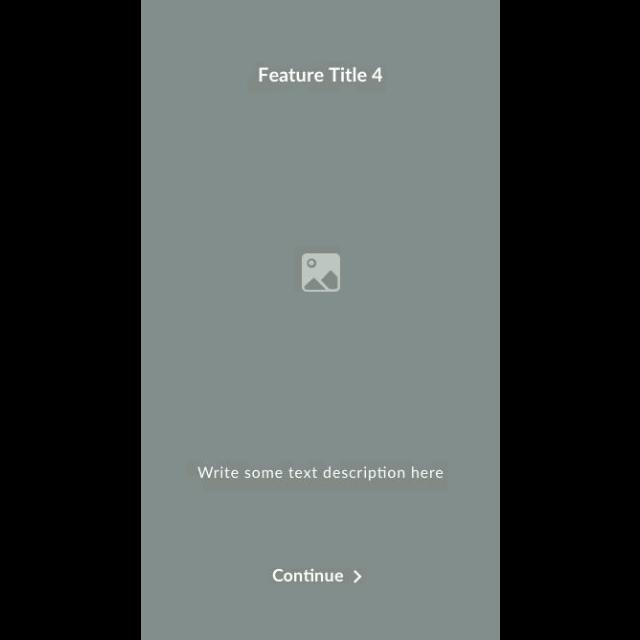icon: (352, 568, 362, 584)
image: (300, 253, 340, 293)
text: (196, 466, 444, 482), (257, 66, 383, 84), (272, 568, 342, 582)
